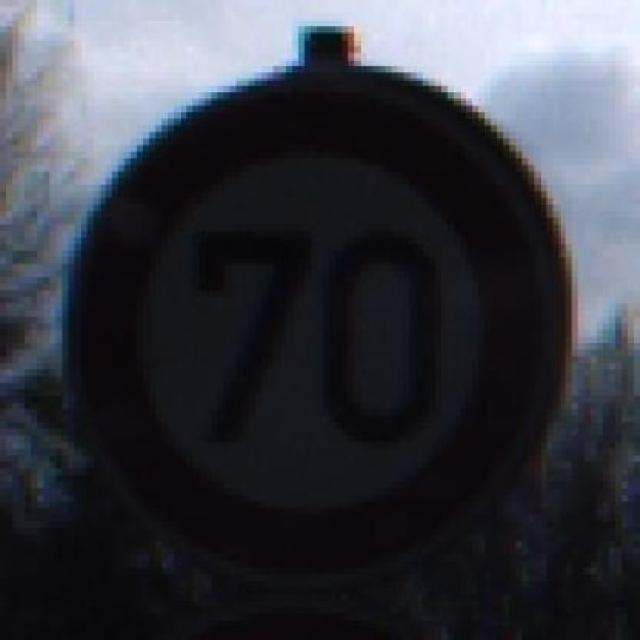forb_speed_over_70: (76, 73, 564, 575)
